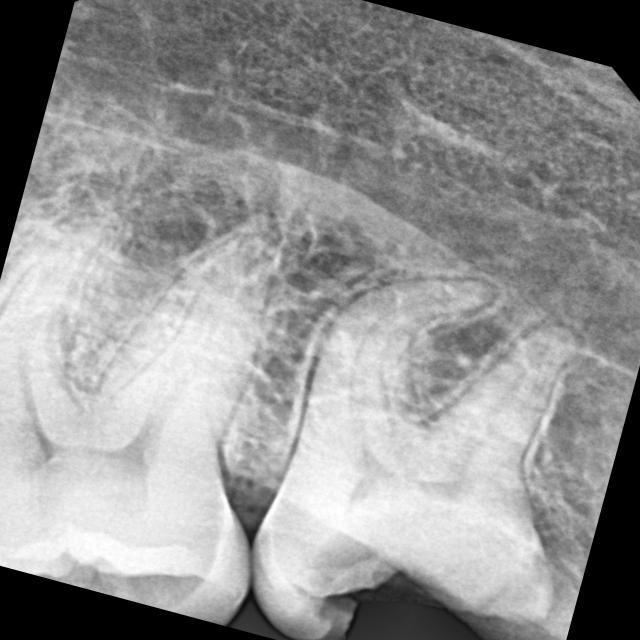Badly Decayed: (224, 421, 593, 640)
Normal: (0, 137, 344, 627)
